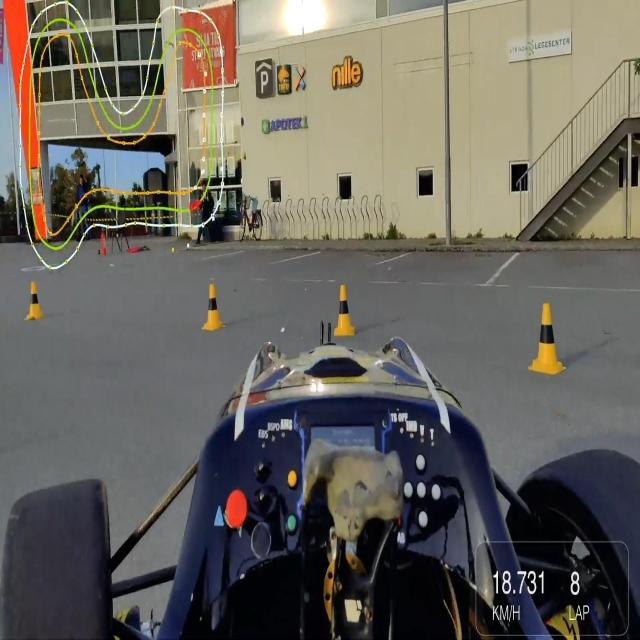yellow_cone: (528, 302, 566, 373), (203, 283, 226, 332), (334, 286, 355, 336), (24, 281, 44, 321)
